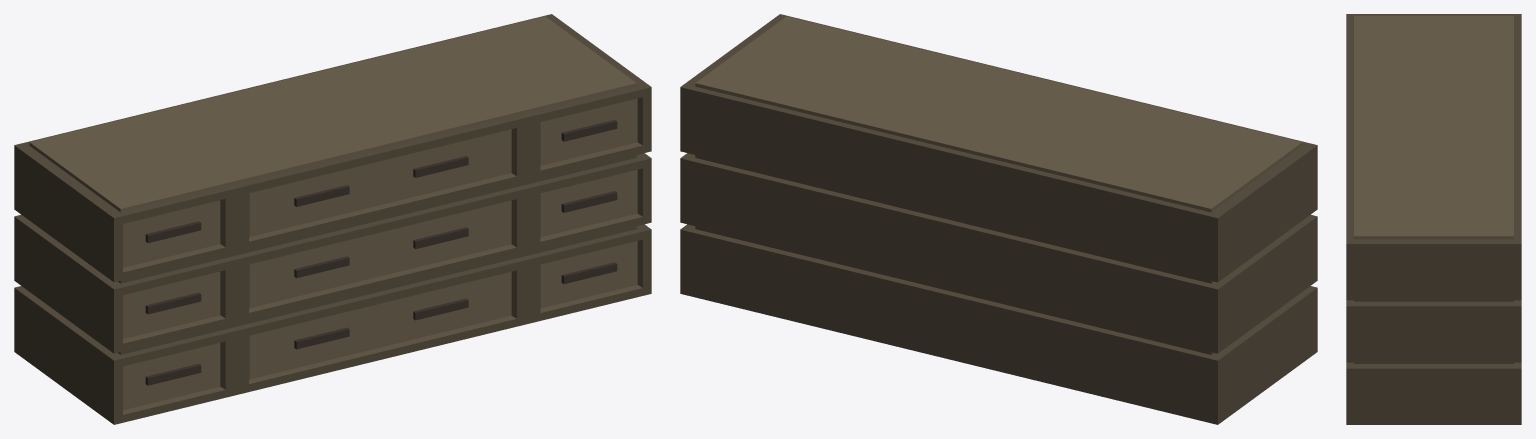
The picture shows the model from 3 angles, left to right: view 1: azimuth 30°, elevation 25°; view 2: azimuth 150°, elevation 25°; view 3: azimuth 270°, elevation 25°; orthographic projection. The views are drawn at different scales.
Visible parts, largest first — view 1: Drawer_3_Cube.098; view 2: Drawer_3_Cube.098; view 3: Drawer_3_Cube.098.
Part boxes in pixels (box(x1,y1,x2,y2)): Drawer_3_Cube.098: box(14, 14, 651, 424); Drawer_3_Cube.098: box(680, 14, 1317, 424); Drawer_3_Cube.098: box(1346, 14, 1521, 424).
Size of the model in its own units: 4.15 by 1.58 by 1.34.
